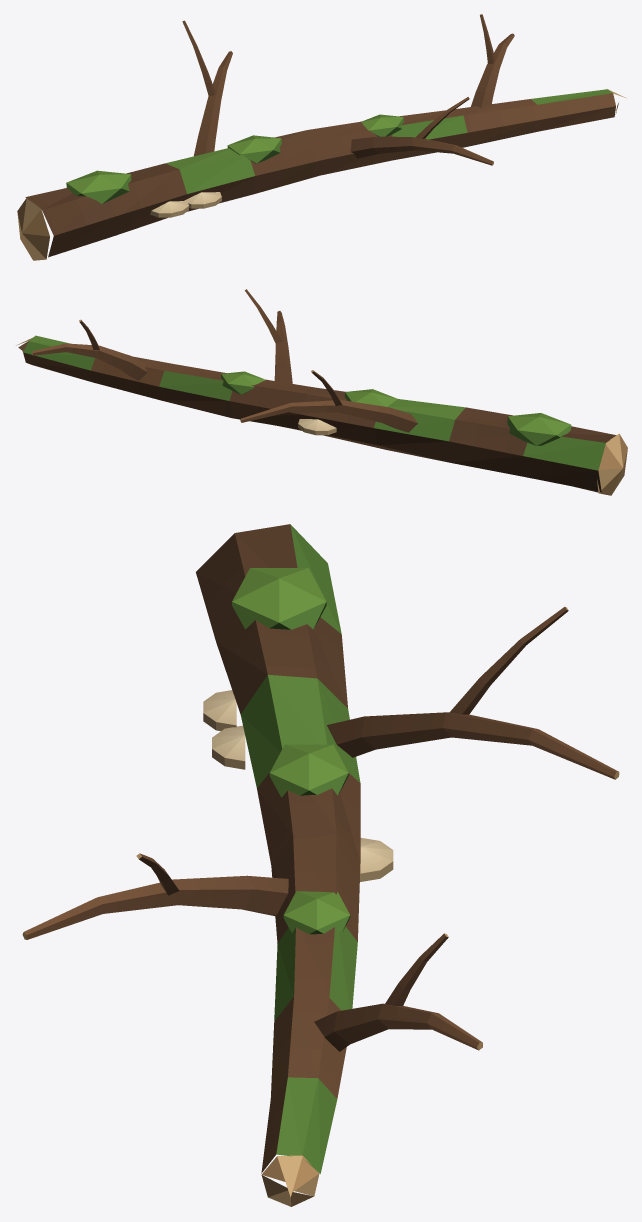
File: branch_fallen_mossy.glb
The picture shows the model from 3 angles, top to bottom: view 1: azimuth 30°, elevation 25°; view 2: azimuth 150°, elevation 25°; view 3: azimuth 270°, elevation 25°; orthographic projection. The views are drawn at different scales.
Visible parts, largest first — view 1: branch_fallen_mossy; view 2: branch_fallen_mossy; view 3: branch_fallen_mossy.
Part boxes in pixels (<box>): branch_fallen_mossy: <box>17,14,626,260</box>; branch_fallen_mossy: <box>16,289,627,495</box>; branch_fallen_mossy: <box>22,524,619,1206</box>.
Bounding box in the file's own units: 1.79 × 0.3699 × 0.7673.
Materials: 1 (1 with a texture image).
